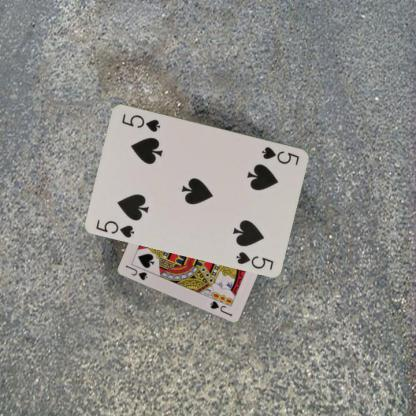5s: (259, 144, 301, 166), (94, 217, 136, 239)
Js: (122, 262, 148, 281)
